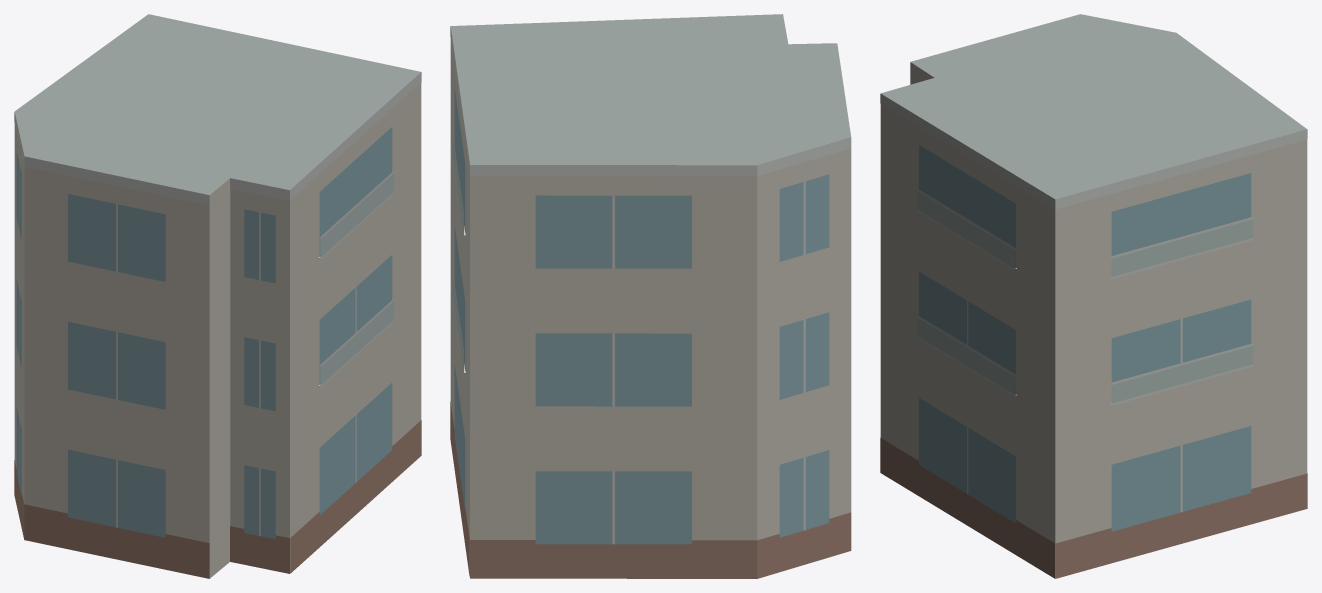
Rendered from survey-upis-33033841.glb.
The picture shows the model from 3 angles, left to right: view 1: azimuth 30°, elevation 25°; view 2: azimuth 150°, elevation 25°; view 3: azimuth 270°, elevation 25°; orthographic projection. The views are drawn at different scales.
Parts seen in each view (by area): view 1: survey-upis-33033841.tmp; view 2: survey-upis-33033841.tmp; view 3: survey-upis-33033841.tmp.
Boxes of the visible parts, <box> form: survey-upis-33033841.tmp: <box>14,14,421,578</box>; survey-upis-33033841.tmp: <box>450,14,851,578</box>; survey-upis-33033841.tmp: <box>880,14,1307,578</box>.
Size of the model in its own units: 9.55 by 9.1 by 9.29.
